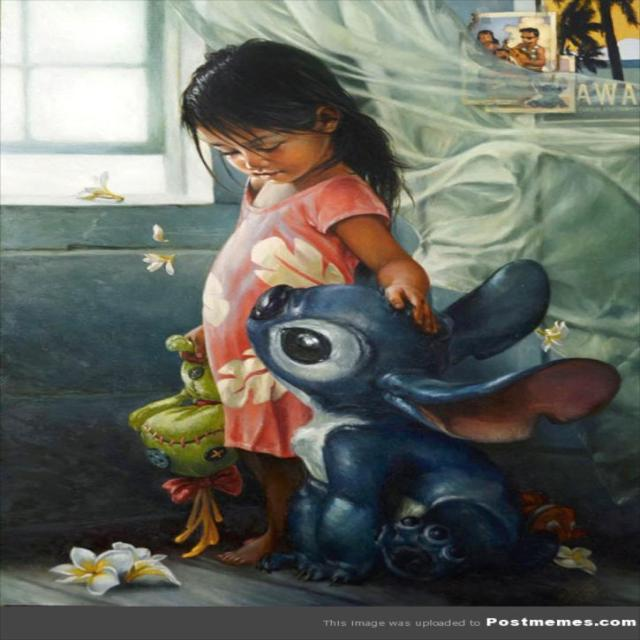Toy: (208, 252, 592, 562)
